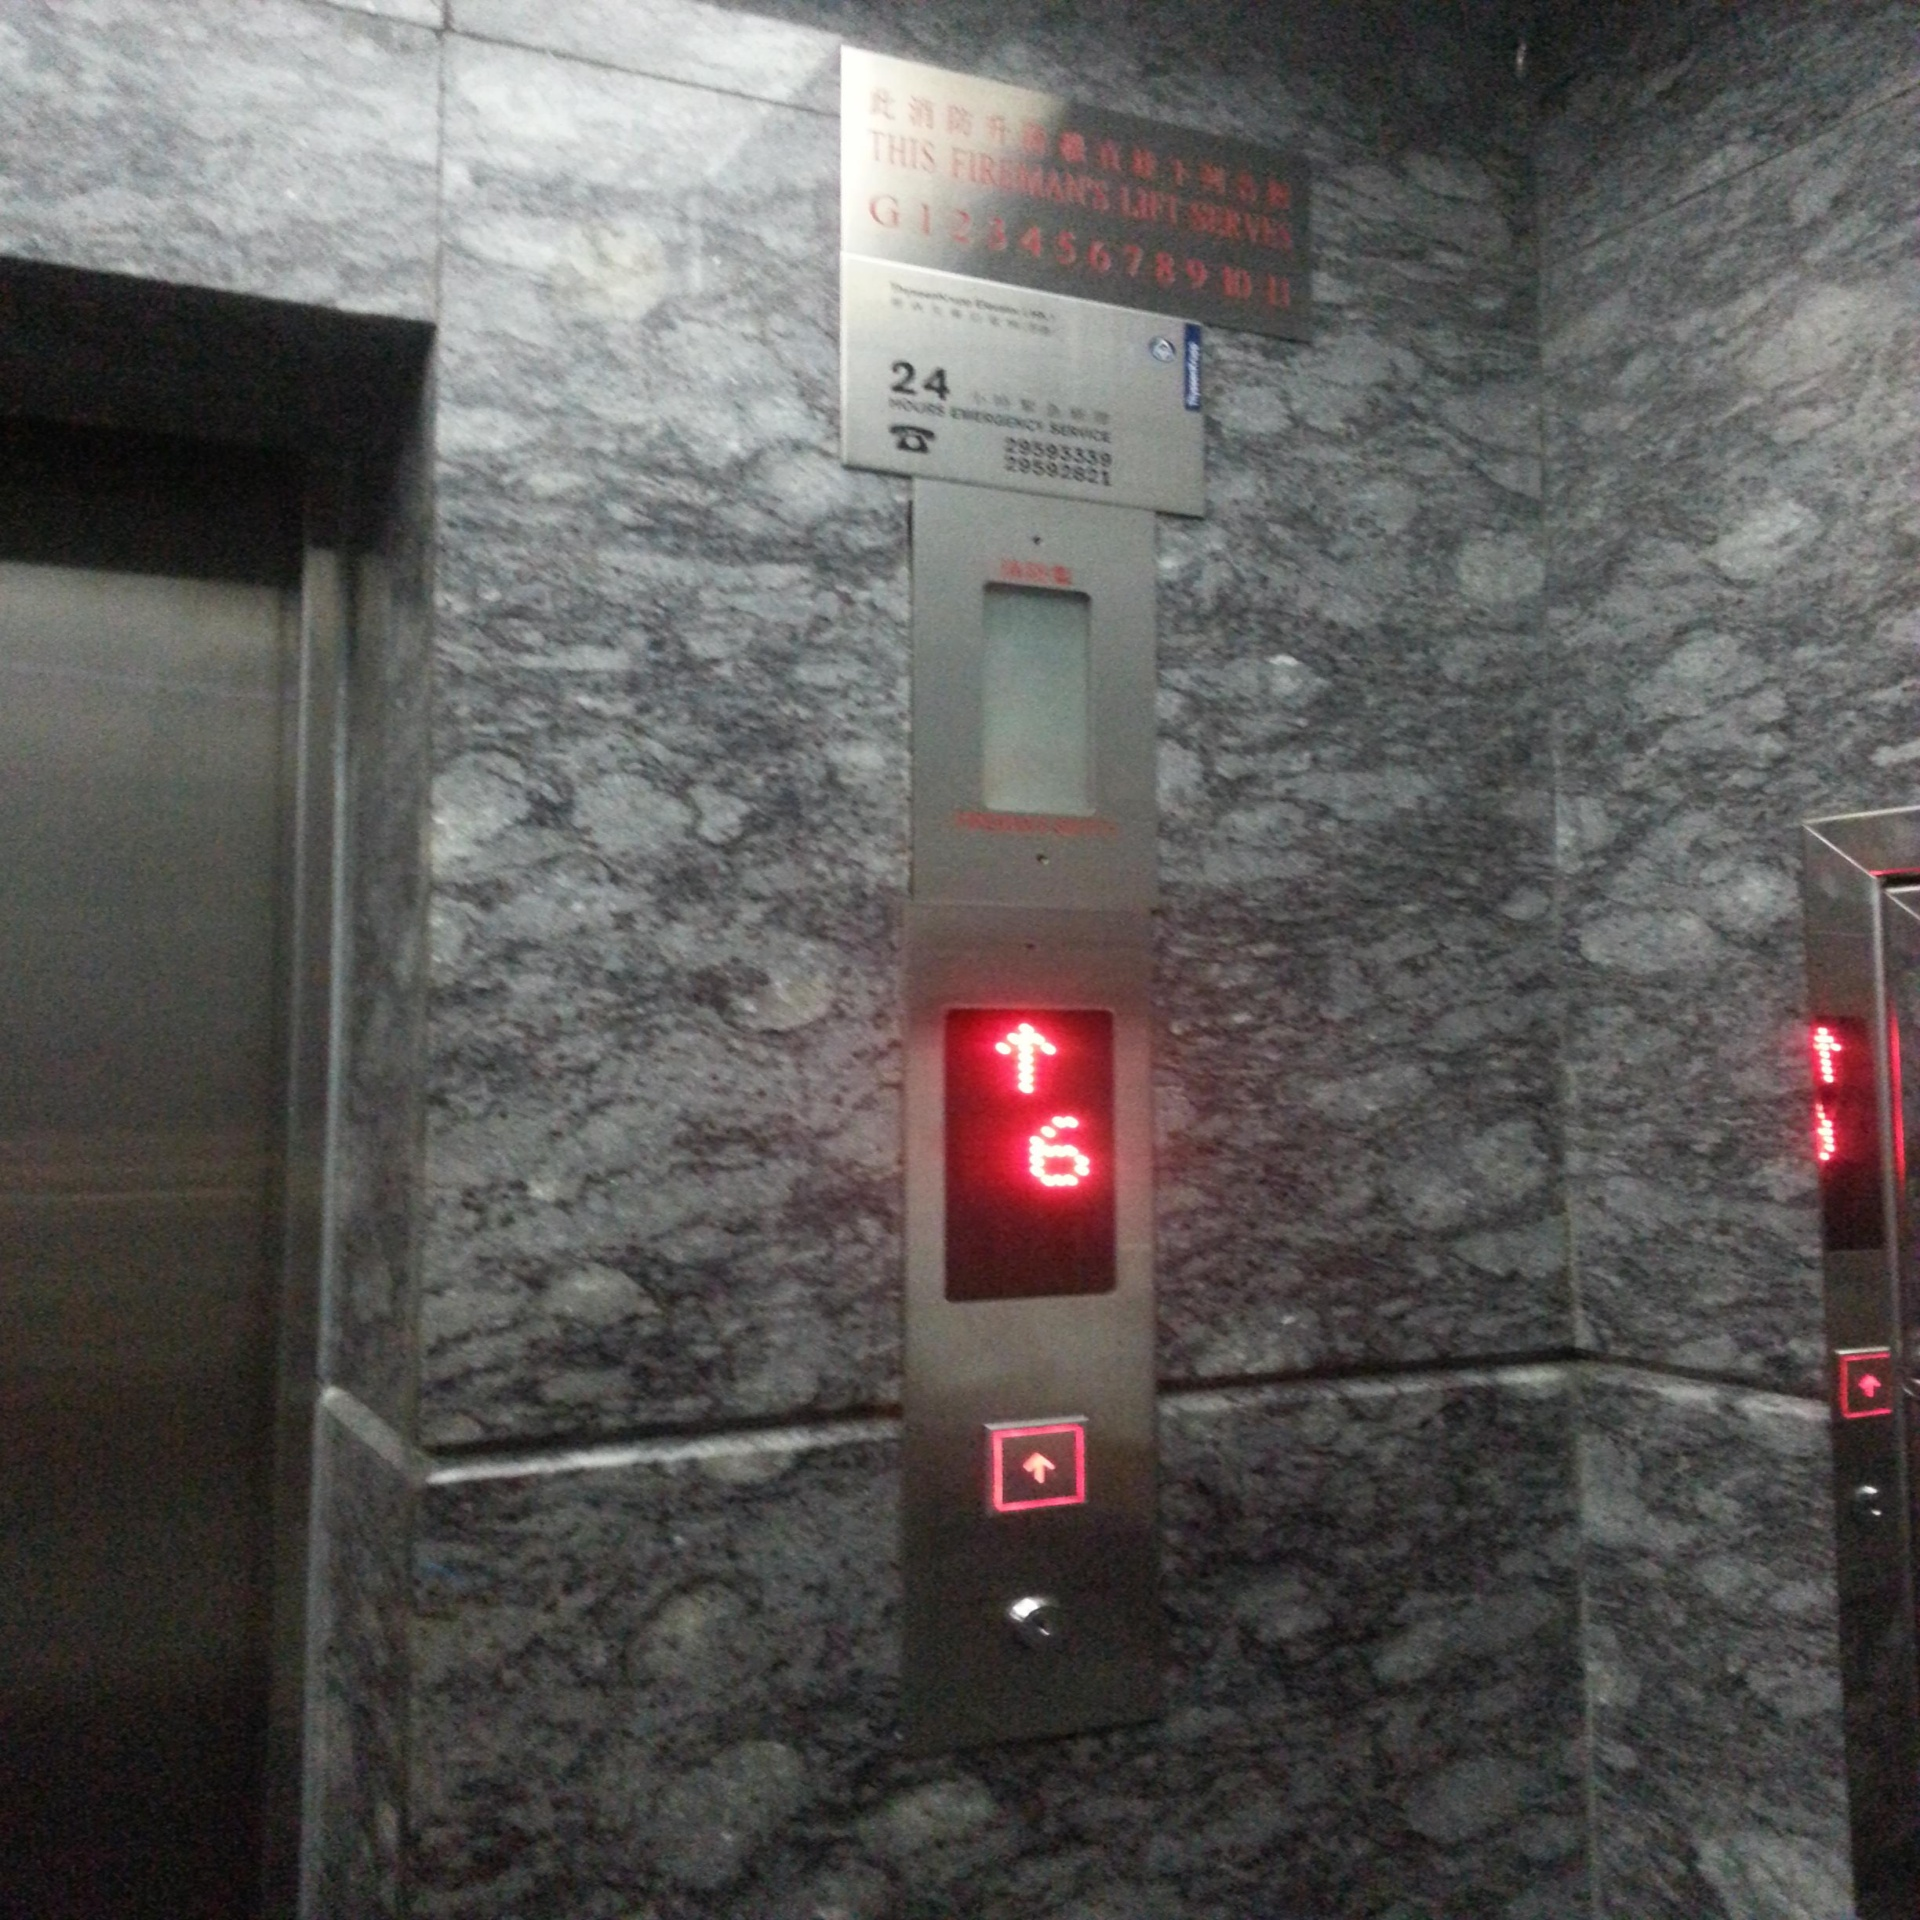led: (932, 992, 1131, 1308)
up: (978, 1414, 1095, 1521), (1836, 1340, 1902, 1422)
